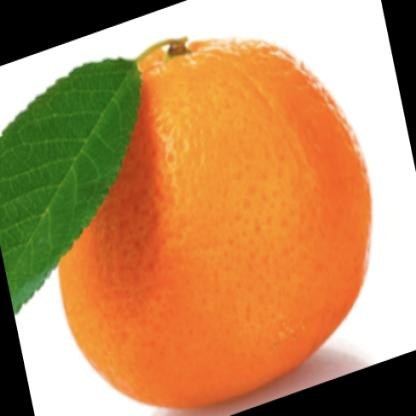fresh: (63, 35, 367, 407)
